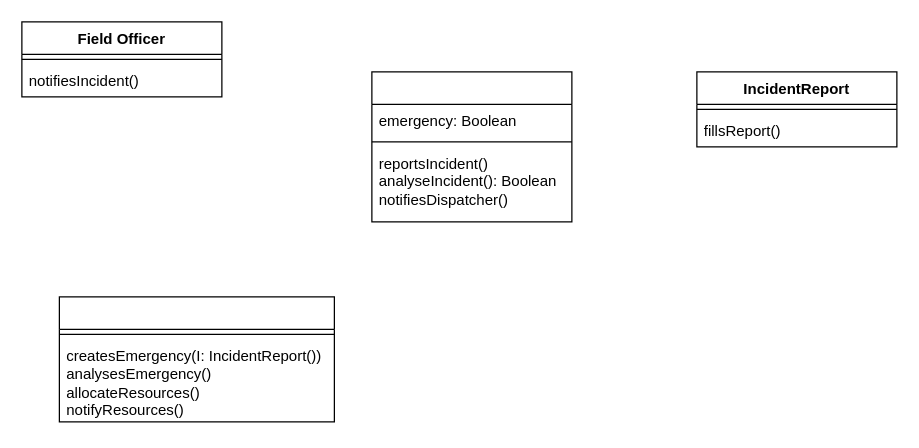
This 919x448 diagram has some shape labels left out. Each missing label, with the box of its shape:
Dispatcher: (58, 296, 334, 422)
EmergencyControlRoom: (371, 71, 572, 222)
